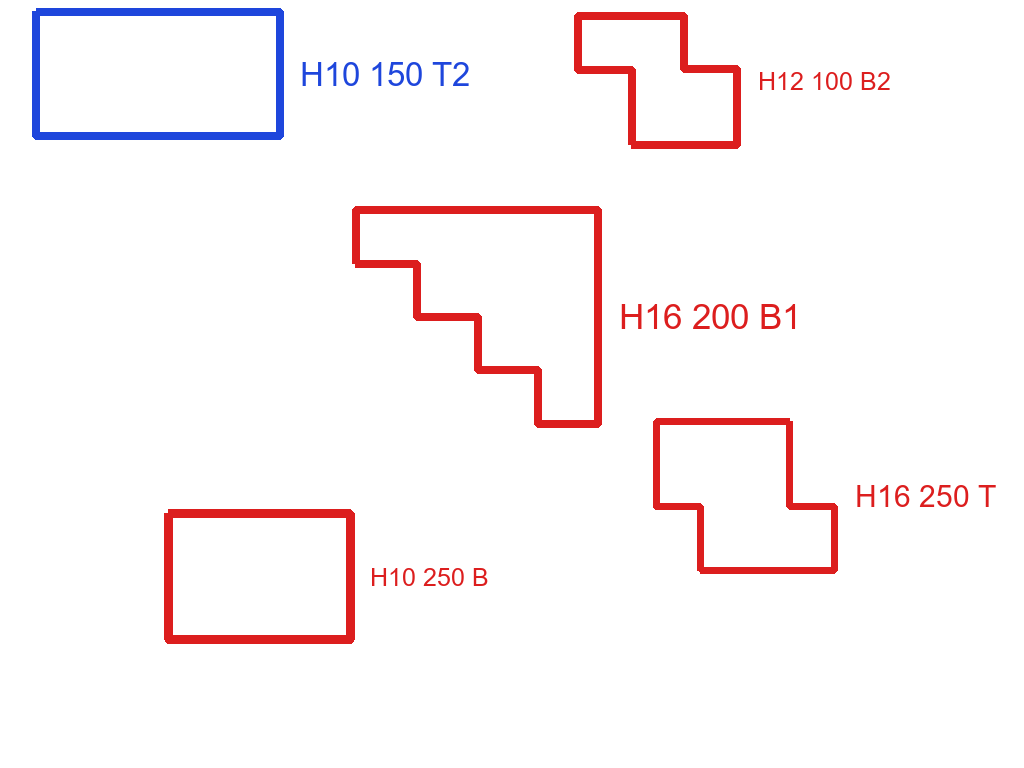shape: (349, 204, 605, 429), (31, 5, 286, 142), (651, 416, 840, 576), (162, 507, 357, 646), (572, 11, 744, 150)
text: (617, 302, 803, 331), (298, 60, 472, 88), (853, 483, 998, 509), (756, 70, 893, 92), (368, 566, 491, 588)
